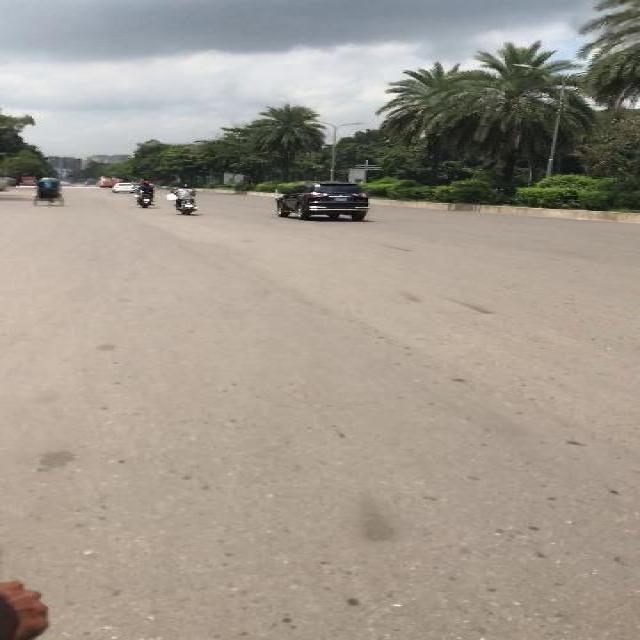bus: (96, 175, 114, 187)
car: (110, 182, 135, 192)
motorbike: (170, 182, 200, 215), (130, 180, 154, 208)
rickshaw: (31, 176, 65, 208)
suv: (273, 179, 371, 221)
